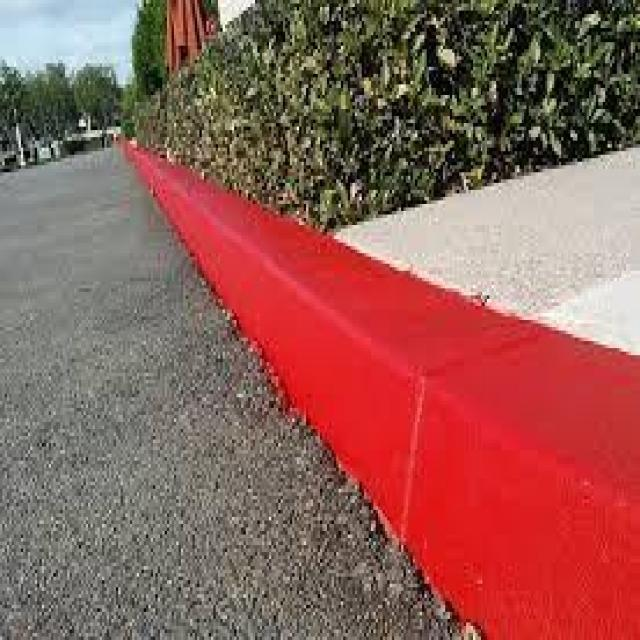curb: (411, 284, 635, 640), (242, 194, 432, 545), (118, 132, 259, 290)
